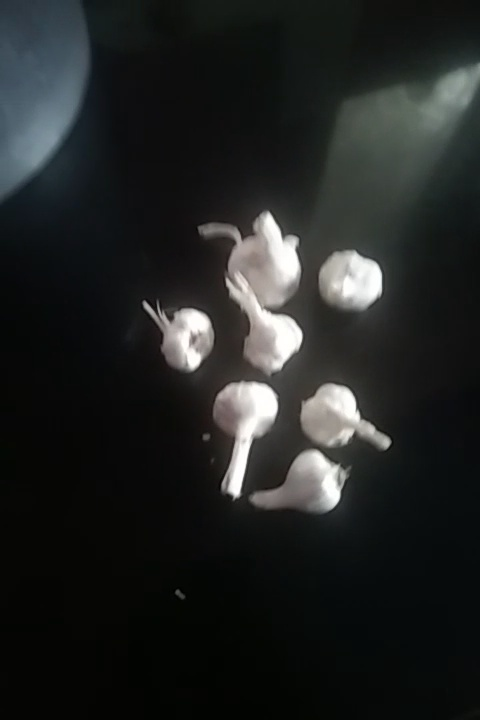garlic: (217, 221, 321, 313), (204, 382, 279, 502), (291, 383, 395, 459), (230, 283, 304, 377), (262, 455, 352, 521), (137, 302, 214, 371), (317, 249, 395, 313)
